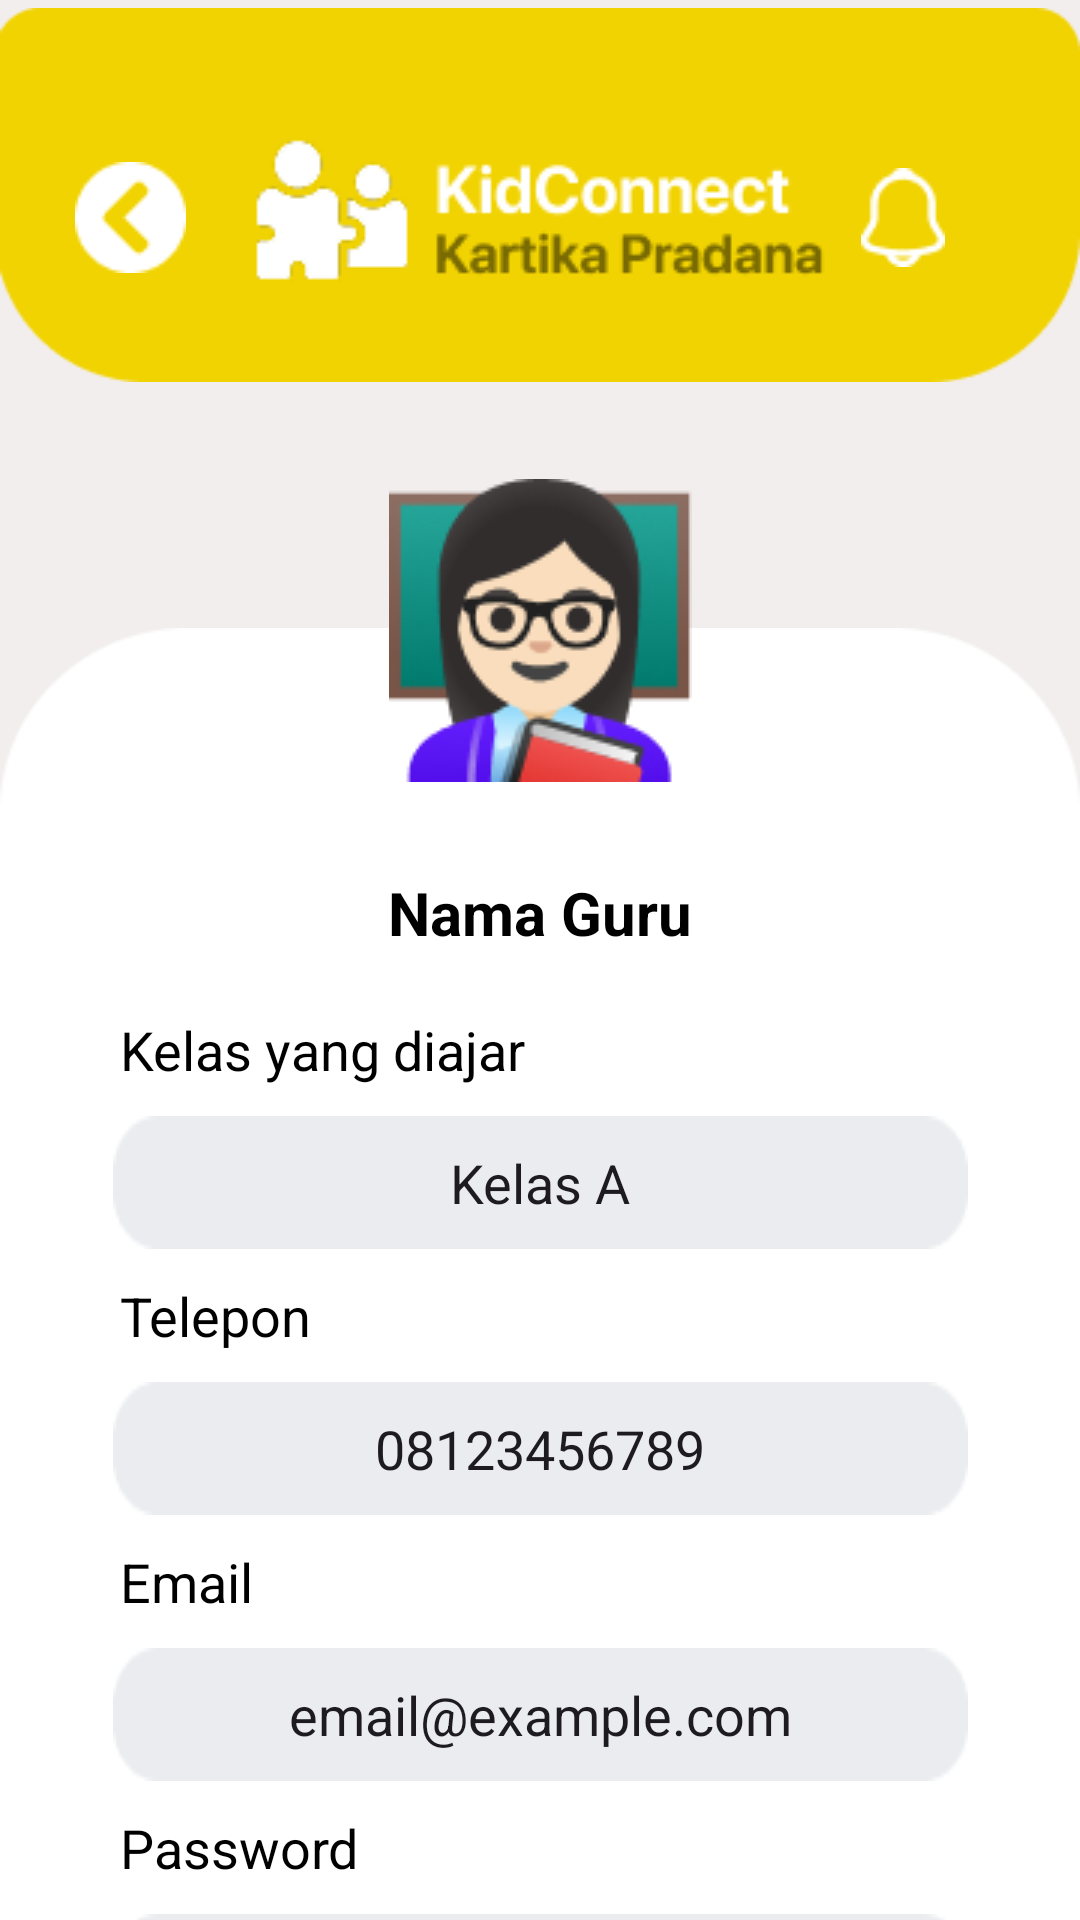

Locate icon controls on the screen. Image size 1080 x 1920, boxes as rect(x1, y1, x2, y2).
back: rect(75, 162, 186, 273)
notif: rect(861, 168, 945, 267)
